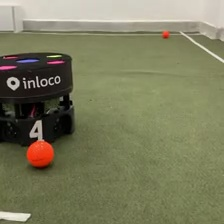ball: (24, 139, 54, 168), (162, 30, 171, 39)
goal: (1, 3, 25, 34)
robot: (1, 50, 75, 148)
